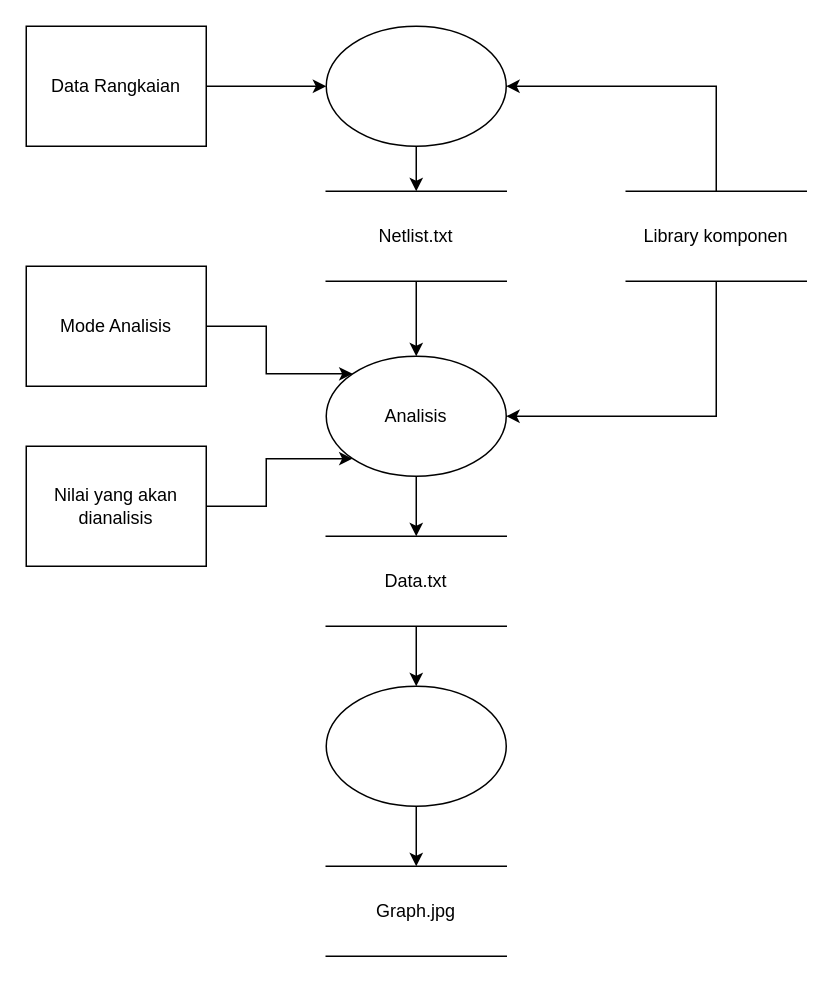
Some shapes in this 833 by 983 pixel diagram are drawn without their labels. The centre of each missing label's shape, as x and y in pixels:
"Microsoft Excel" belongs at point (415, 745).
"Olah_Input" belongs at point (415, 85).
